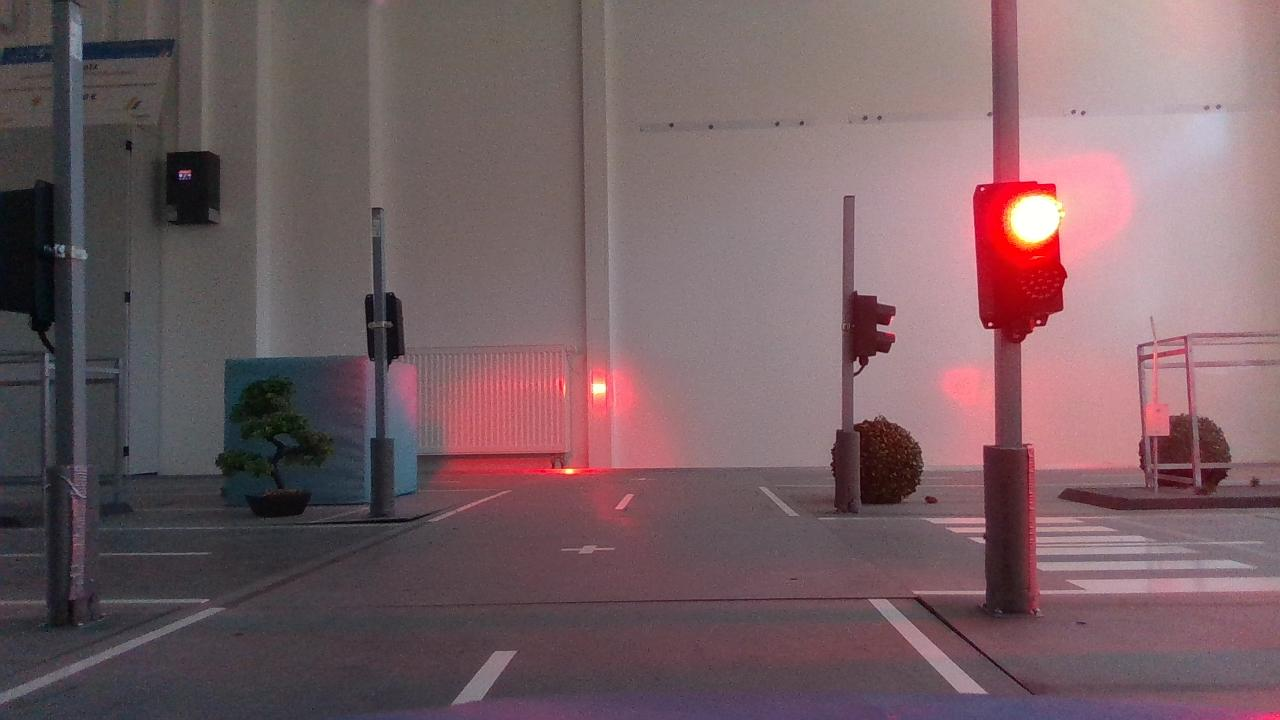traffic_light_red: (969, 173, 1075, 340)
